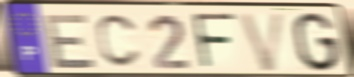2: (146, 12, 194, 71)
C: (95, 13, 143, 71)
E: (43, 12, 99, 71)
F: (190, 12, 239, 72)
G: (292, 11, 342, 74)
V: (236, 11, 288, 74)
